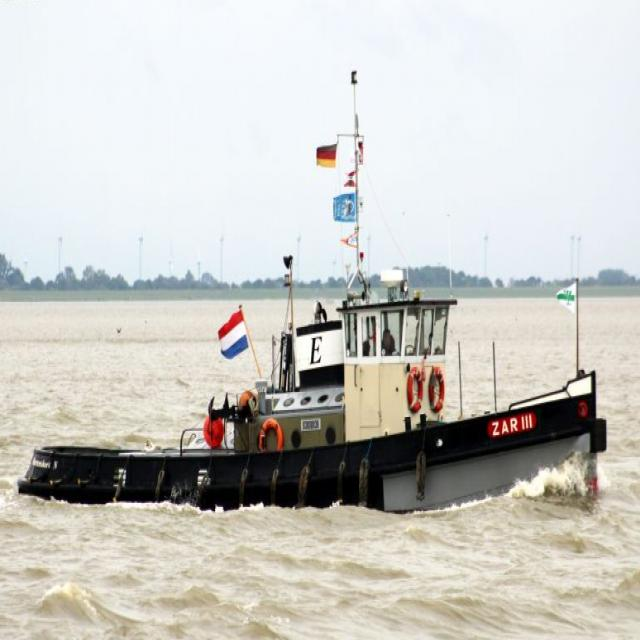tugboat: (13, 250, 612, 547)
